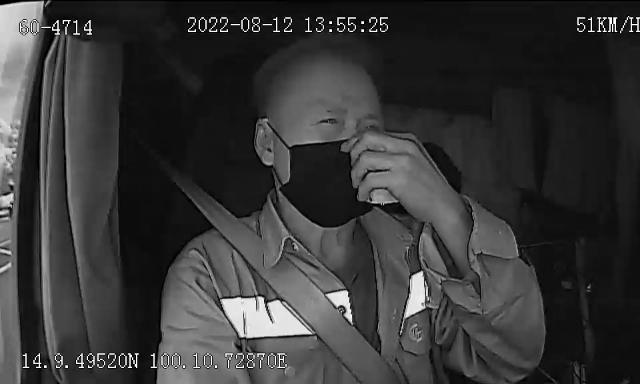SafeDriving: (309, 109, 346, 130)
Seatbelt: (166, 166, 406, 384)
